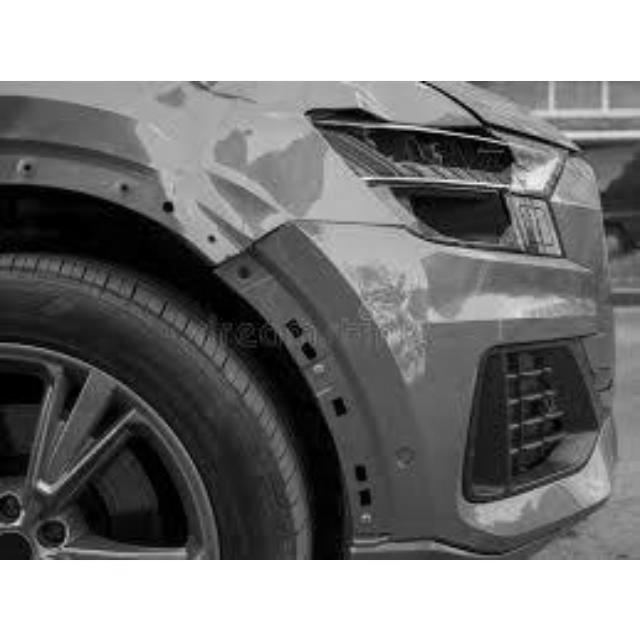Headlight-damage: (304, 93, 578, 263)
fender-dent: (1, 81, 346, 330)
